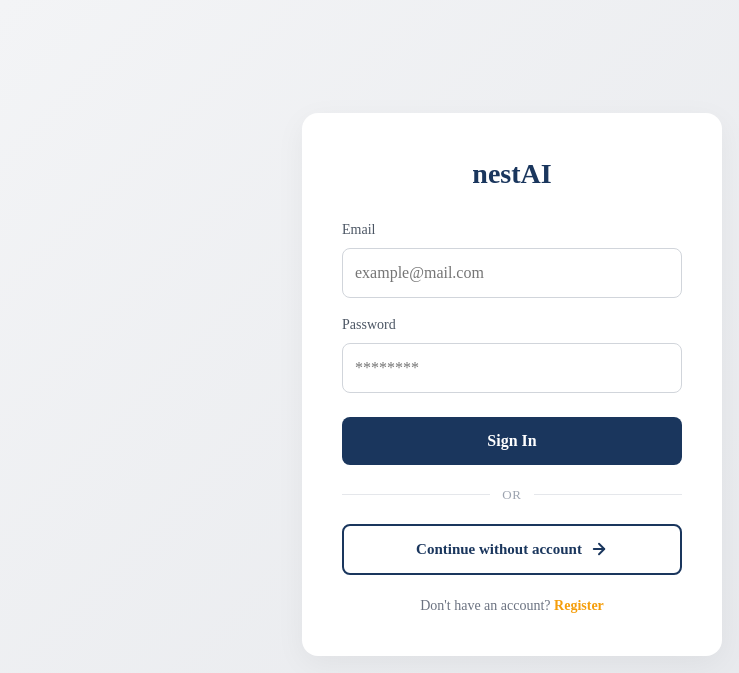
Test: Login Page › shows loading state during submission
The image size is (739, 673).
Type "test@test.com" into the field with placeholder "example@mail.com". click: (512, 272)
box: [342,248,682,298]
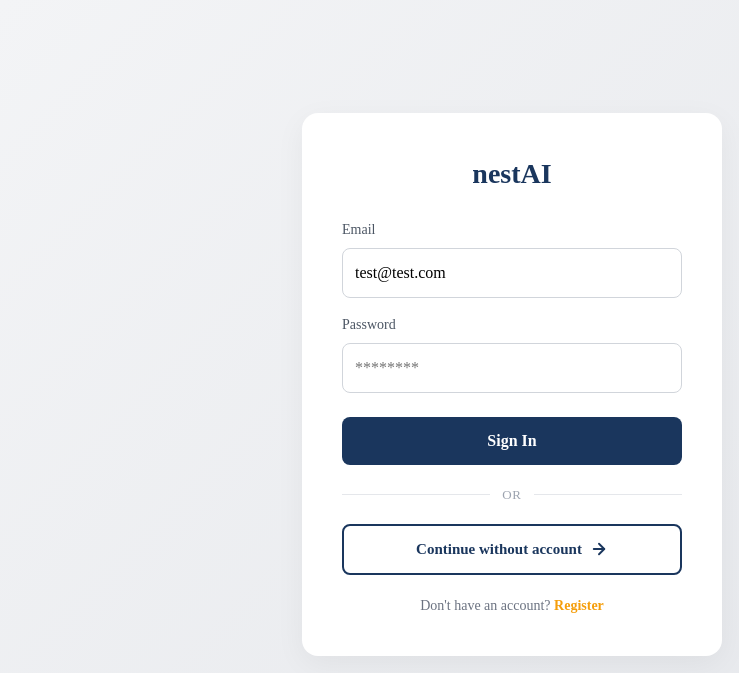
Type "pass123" into the password field with placeholder "********". click: (512, 368)
box: [342,342,682,392]
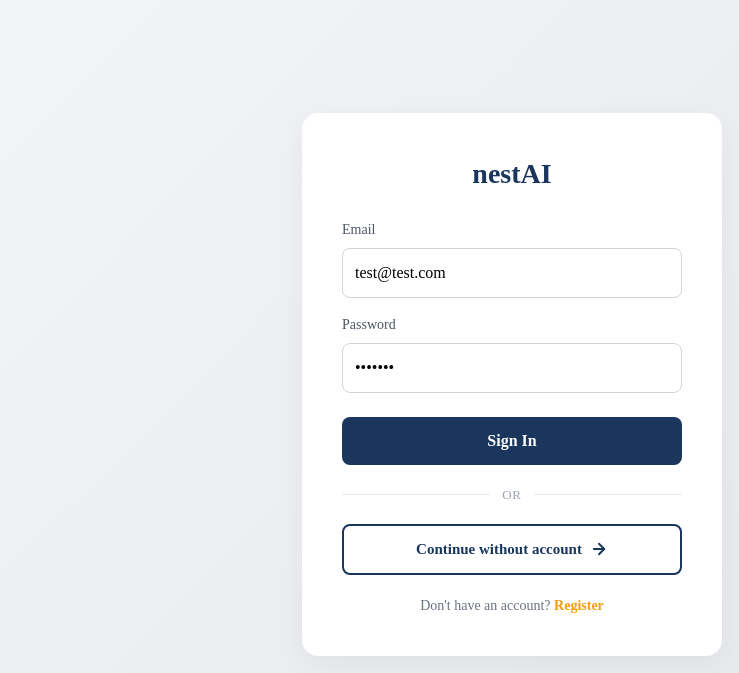
Click the button "Sign In". click: (512, 440)
box: [342,416,682,464]
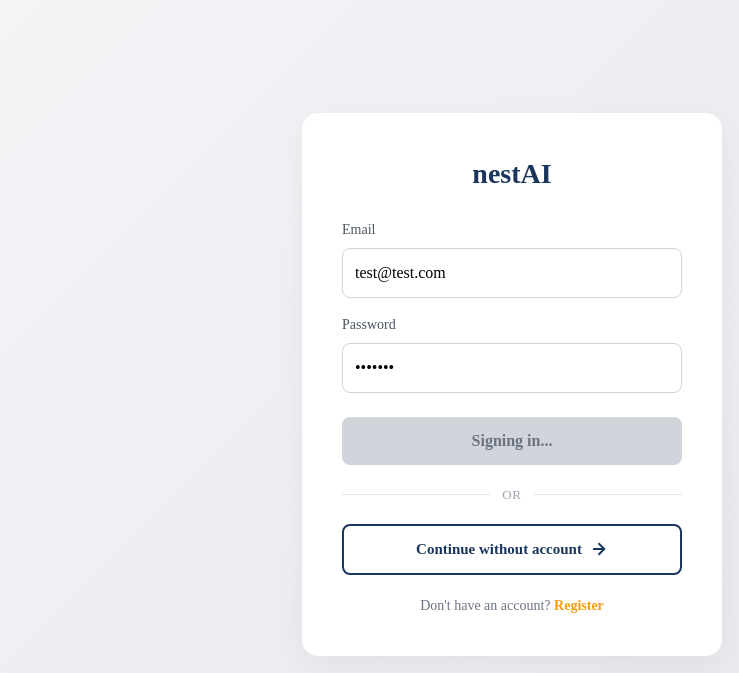
expect the button "Signing in..." is shown: met, box [342,416,682,464]
